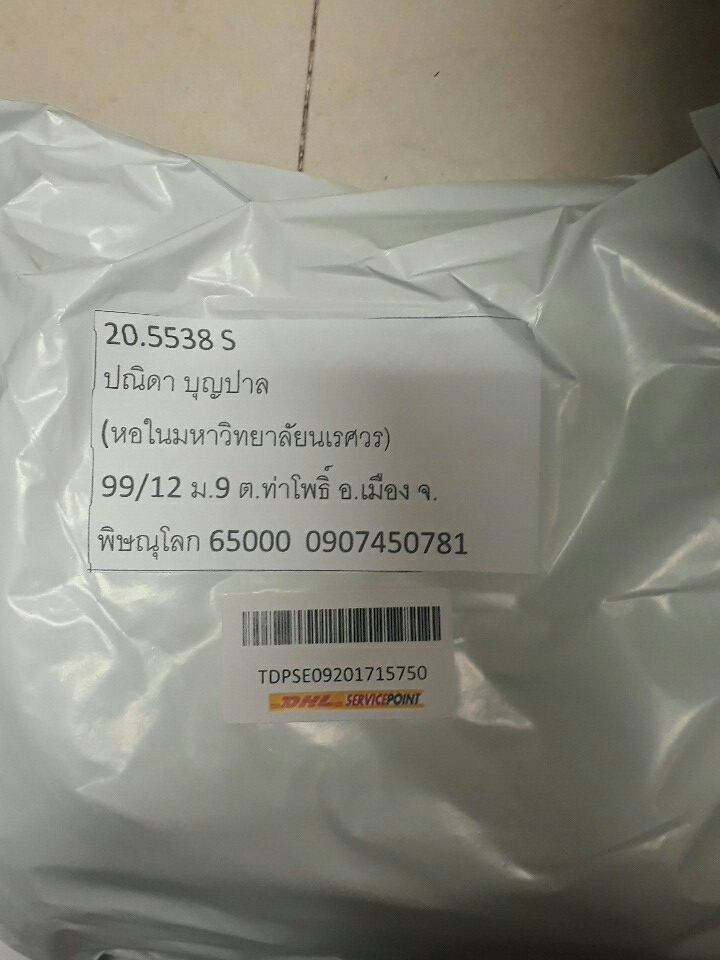ba: (210, 583, 480, 733)
txt: (92, 356, 495, 566)
